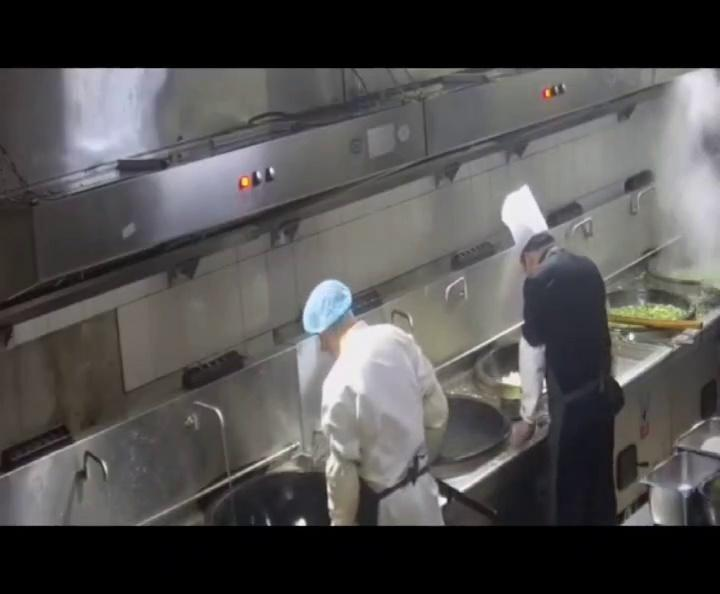gloves: (303, 276, 352, 330)
